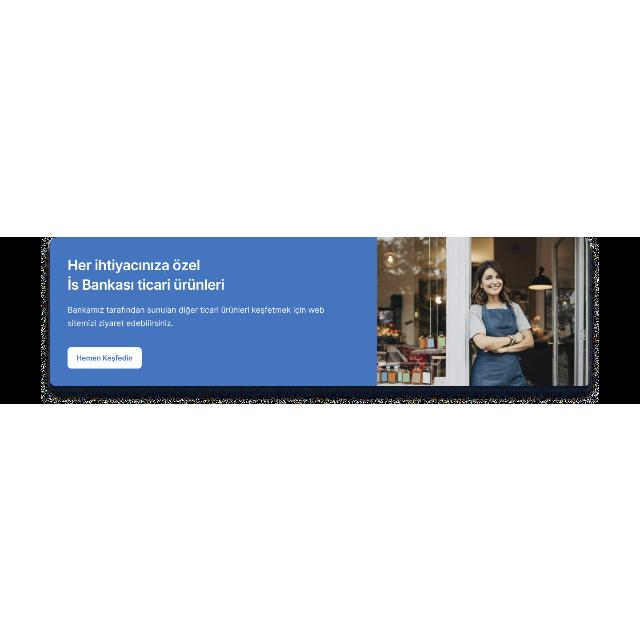QLabel: (68, 304, 324, 316), (68, 276, 225, 292), (68, 257, 200, 271), (68, 318, 174, 326), (74, 354, 134, 361)
VBtn: (68, 346, 142, 369)
VCard: (49, 238, 588, 386)
VImg: (378, 238, 588, 384)
